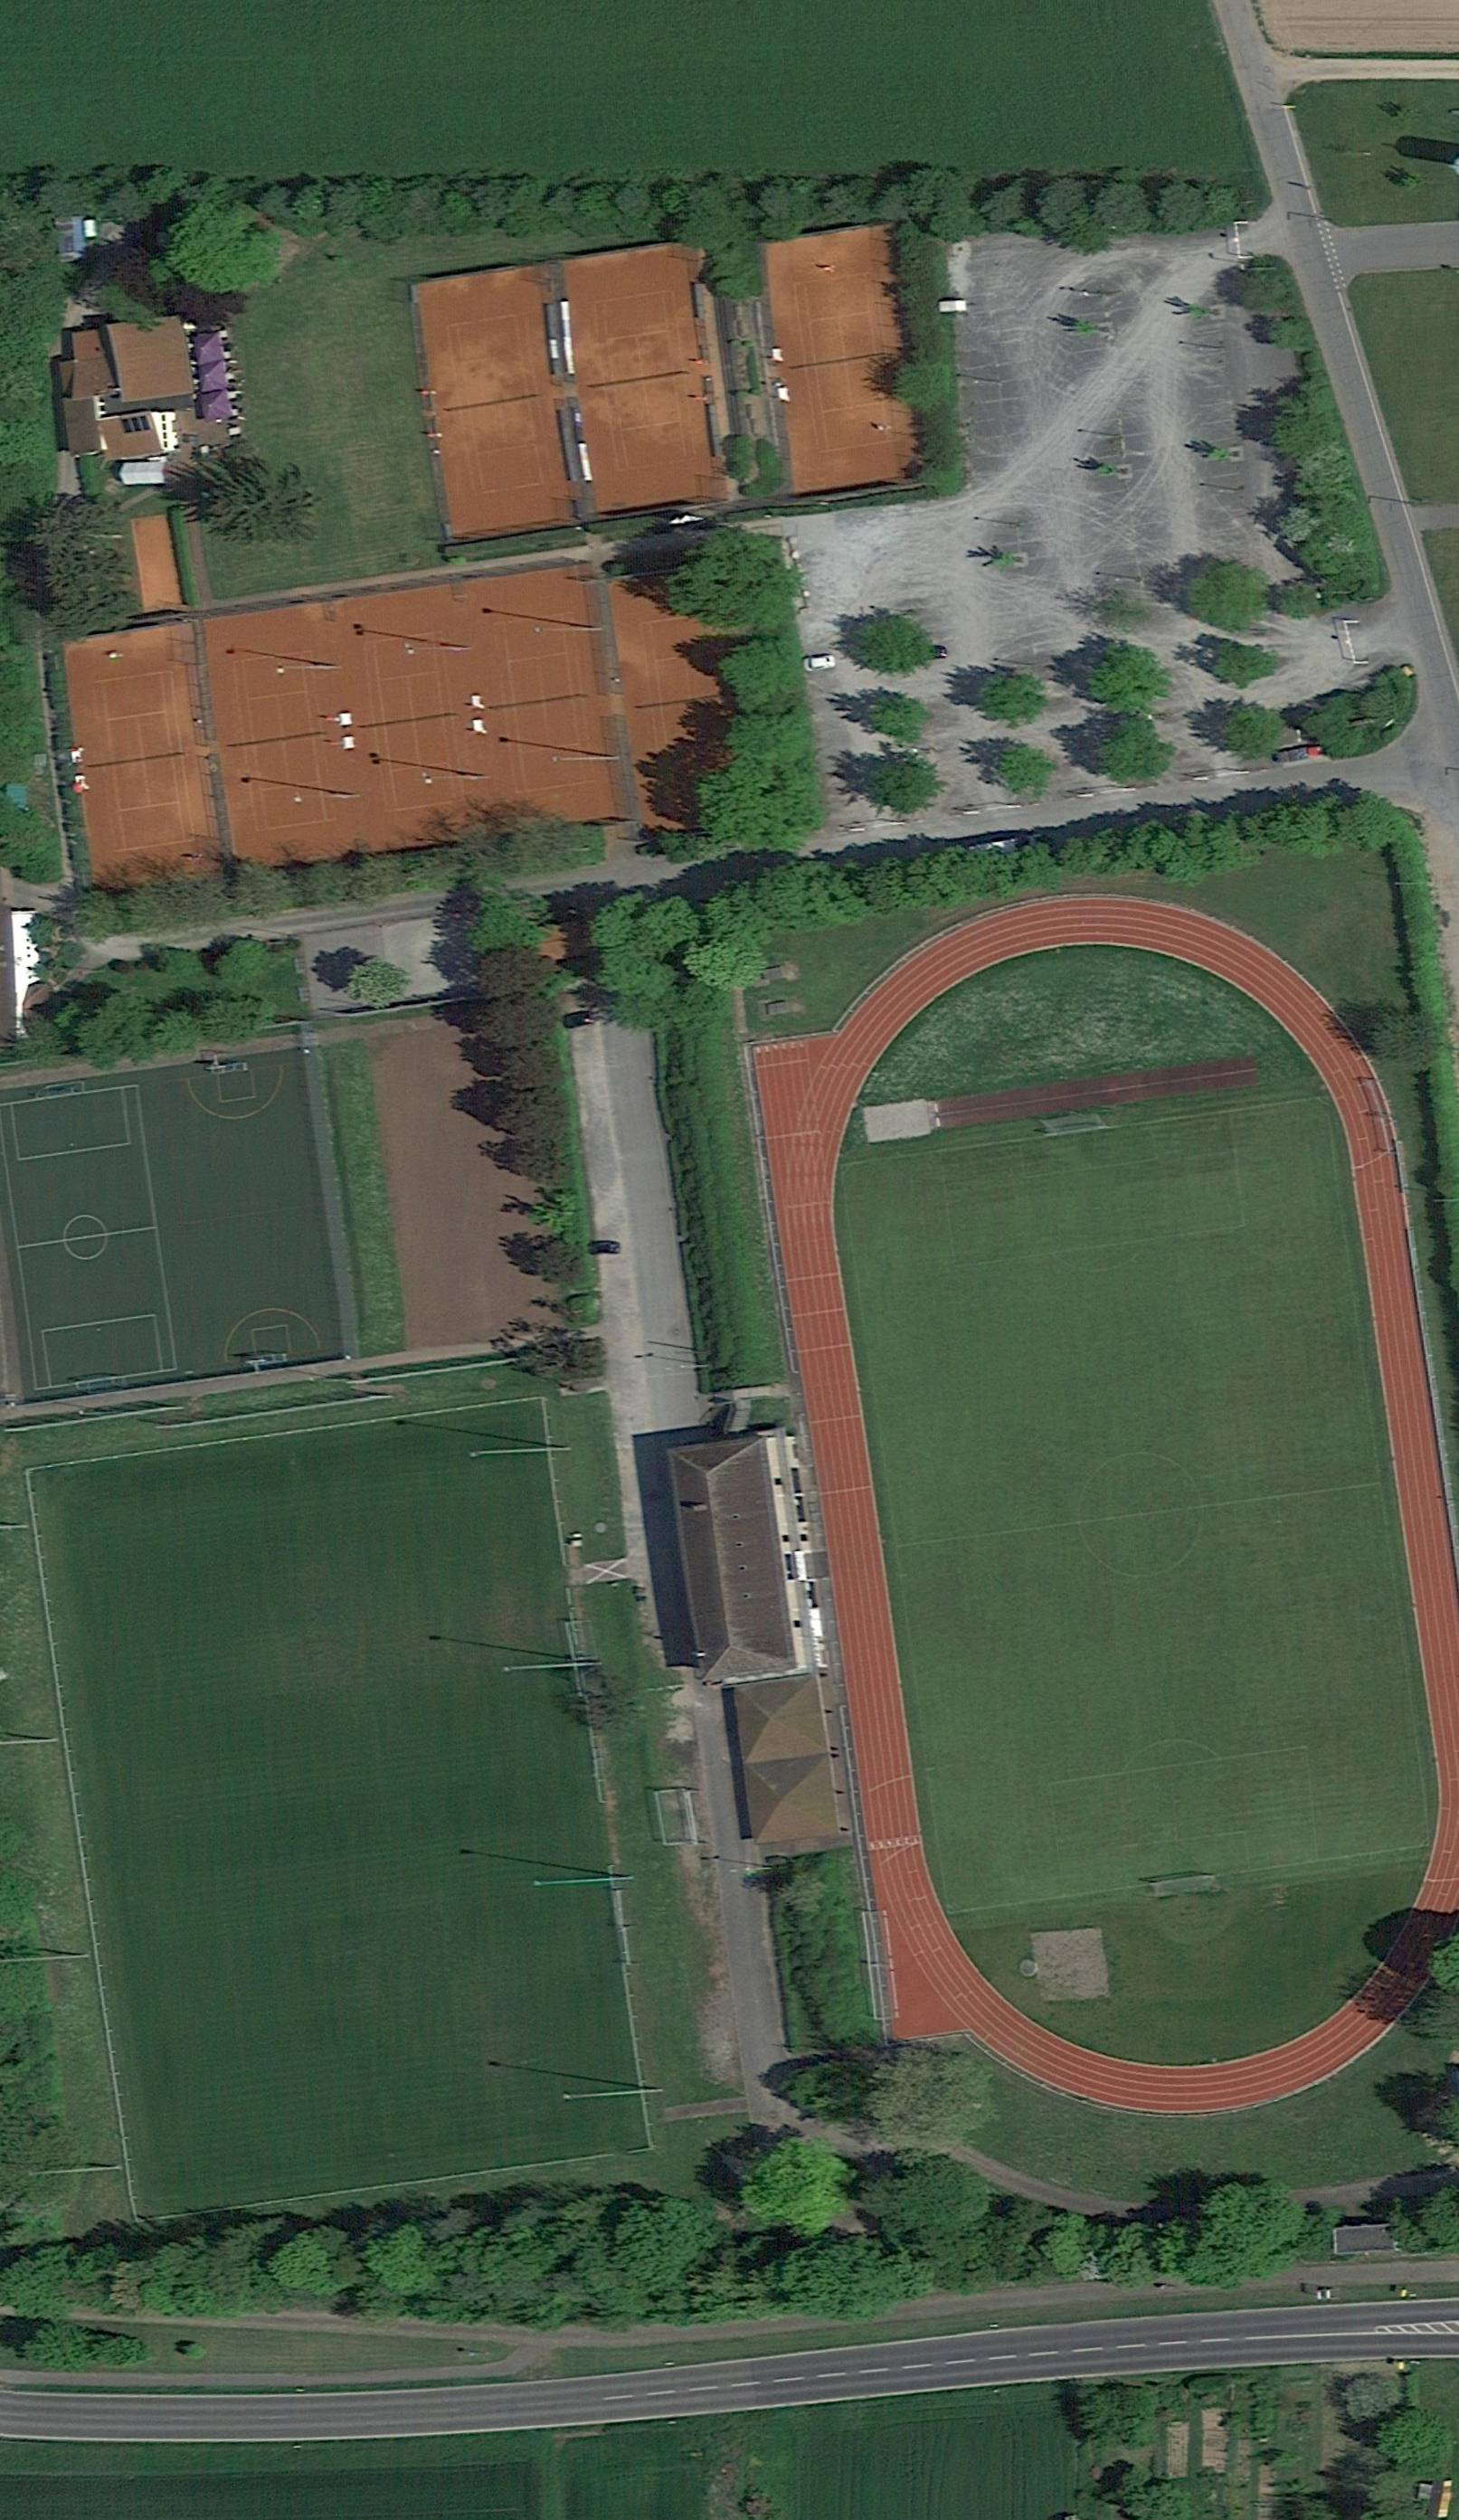basketball court: (144, 1049, 346, 1382)
ground track field: (731, 841, 1459, 2115)
soccer ball field: (839, 1094, 1438, 1916), (2, 1068, 182, 1403)
tennis court: (794, 271, 901, 457), (231, 650, 337, 835), (448, 314, 556, 497), (639, 615, 752, 787), (594, 290, 698, 476), (90, 669, 195, 854), (363, 630, 465, 813), (493, 613, 594, 794)
